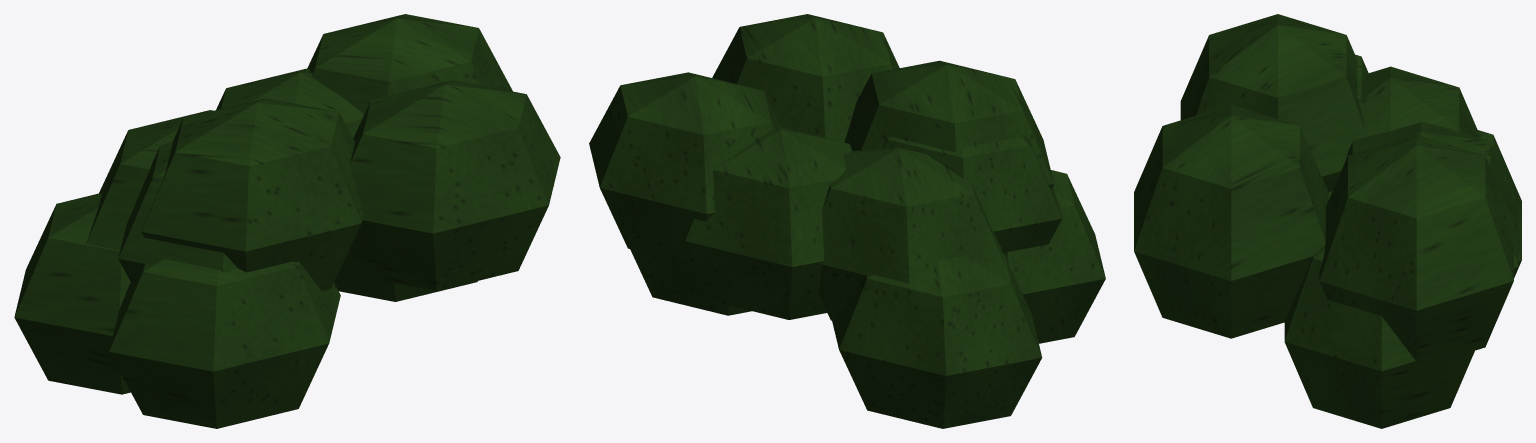
File: PROP-E506F8AF3772_lod2.glb
The picture shows the model from 3 angles, left to right: view 1: azimuth 30°, elevation 25°; view 2: azimuth 150°, elevation 25°; view 3: azimuth 270°, elevation 25°; orthographic projection. The views are drawn at different scales.
Visible parts, largest first — view 1: foliage.003; view 2: foliage.003; view 3: foliage.003.
Part boxes in pixels (x1,y1,x2,y2): foliage.003: (14,14,560,428); foliage.003: (589,14,1105,428); foliage.003: (1134,14,1521,428).
Size of the model in its own units: 1.28 by 0.8042 by 0.8292.
Materials: 1 (1 with a texture image).
